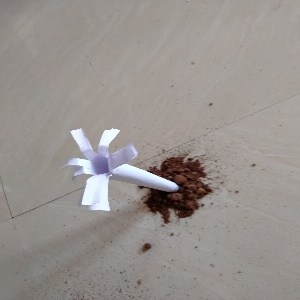weed: (61, 115, 188, 216)
